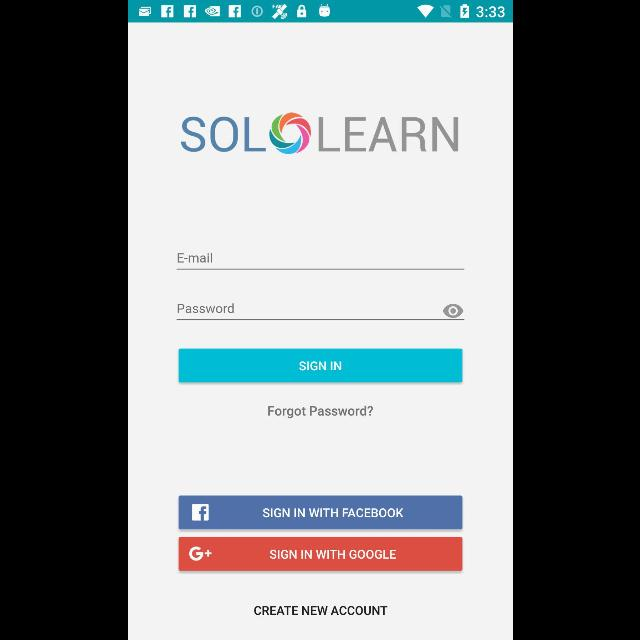icon: (442, 304, 462, 318)
image: (180, 112, 458, 156)
input: (176, 252, 464, 270), (176, 304, 464, 320)
text: (254, 606, 386, 616), (268, 406, 372, 418), (177, 303, 233, 313), (177, 253, 211, 263)
textbutton: (178, 349, 462, 383), (178, 496, 462, 528), (178, 538, 462, 570)
uppertaskbar: (128, 1, 512, 23)
